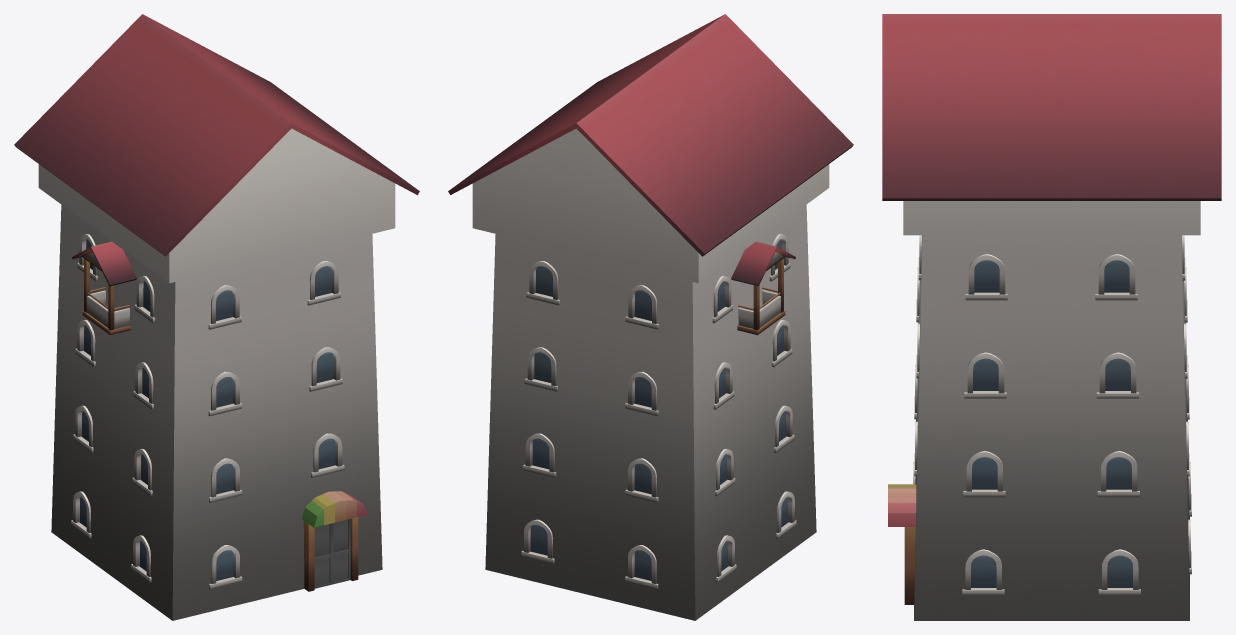
File: Tower_Building_FBX.fbx
3 renders of one model, left to right at view 1: azimuth 30°, elevation 25°; view 2: azimuth 150°, elevation 25°; view 3: azimuth 270°, elevation 25°, orthographic. The views are drawn at different scales.
Visible parts, largest first — view 1: pCube116; view 2: pCube116; view 3: pCube116.
Part boxes in pixels (x1,y1,x2,y2): pCube116: (14, 14, 419, 620); pCube116: (448, 14, 853, 620); pCube116: (882, 14, 1221, 620).
Bounding box in the file's own units: 798 × 1432 × 803.
